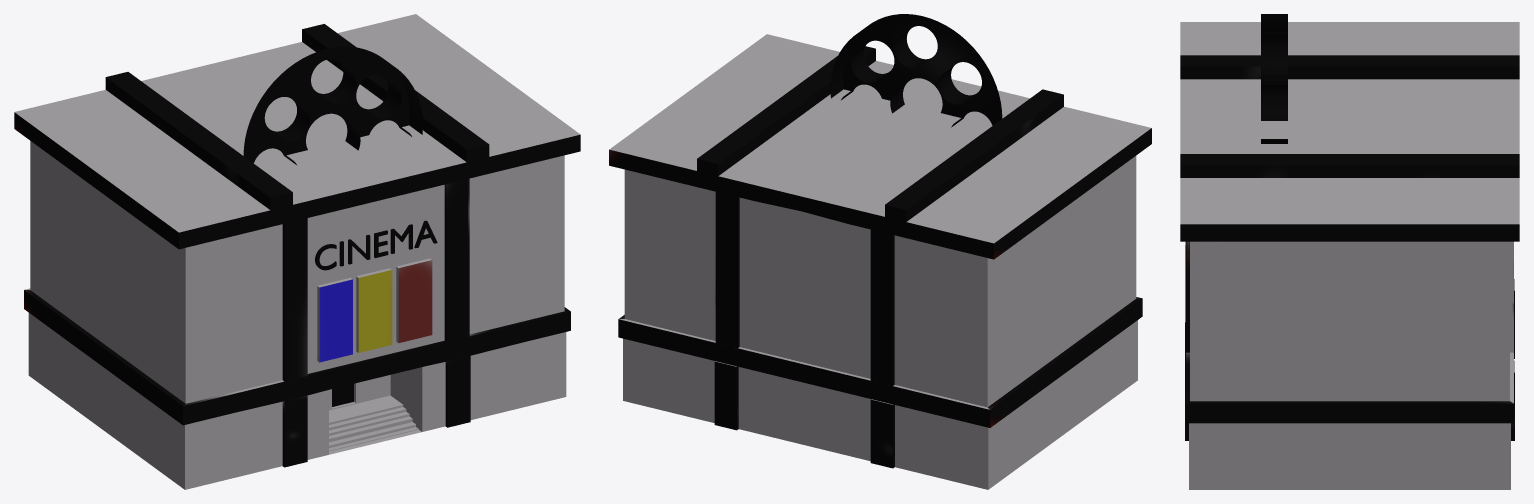
File: cinema.glb
3 renders of one model, left to right at view 1: azimuth 30°, elevation 25°; view 2: azimuth 150°, elevation 25°; view 3: azimuth 270°, elevation 25°, orthographic. The views are drawn at different scales.
Visible parts, largest first — view 1: Plane; view 2: Plane; view 3: Plane.
Boxes of the visible parts, left/top/right/bottom form: Plane: left=14, top=14, right=580, bottom=489; Plane: left=609, top=14, right=1151, bottom=489; Plane: left=1180, top=14, right=1519, bottom=489.
Bounding box in the file's own units: 15.16 × 12.96 × 10.77.
Materials: 1 (1 with a texture image).
